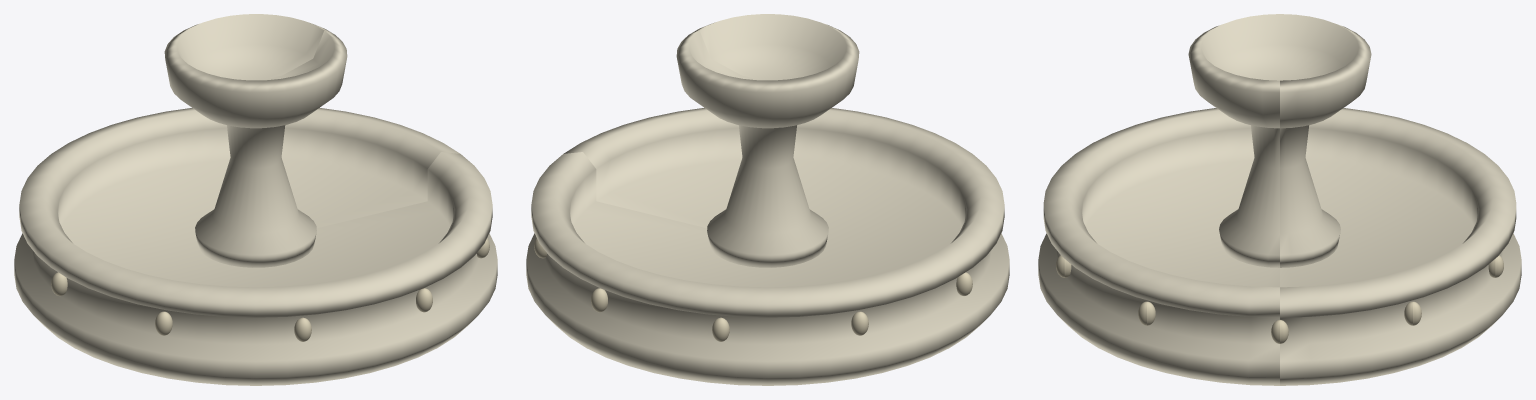
File: fountain.glb
3 views of the same model, side by side, from view 1: azimuth 30°, elevation 25°; view 2: azimuth 150°, elevation 25°; view 3: azimuth 270°, elevation 25° (orthographic).
Visible parts, largest first — view 1: fountain; view 2: fountain; view 3: fountain.
Part boxes in pixels (x1,y1,x2,y2): fountain: (14, 14, 497, 385); fountain: (526, 14, 1009, 385); fountain: (1038, 14, 1521, 385).
Bounding box in the file's own units: 1.9 × 1.05 × 1.9.
